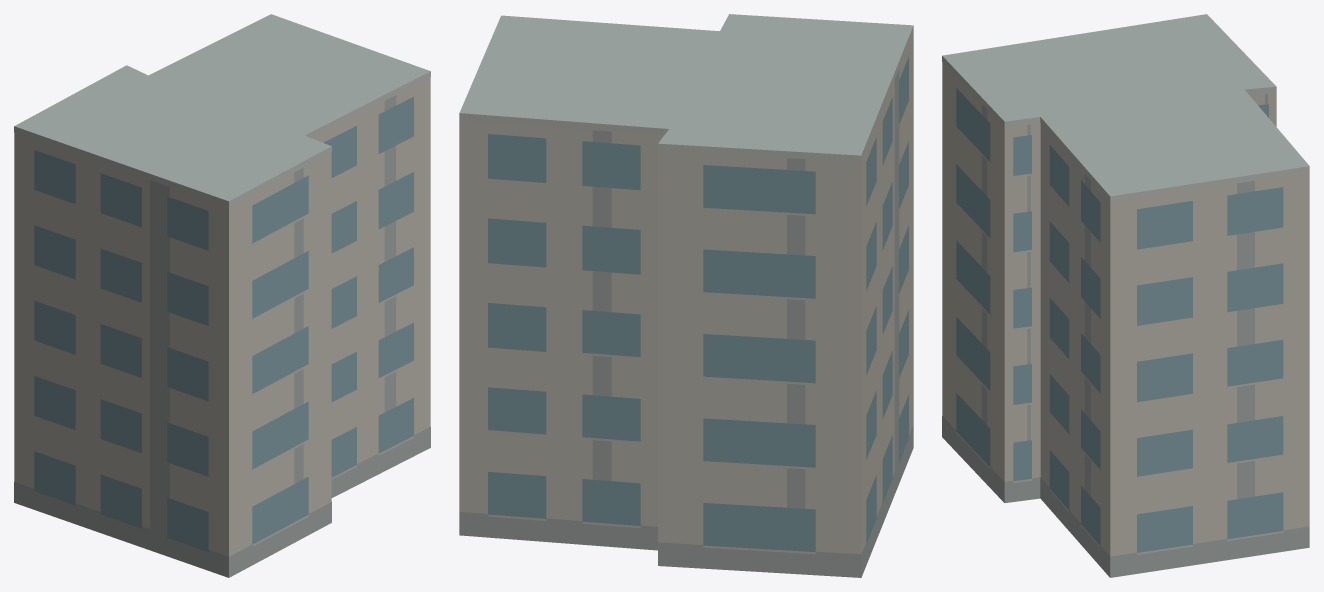
File: survey-upis-32847438.glb
The picture shows the model from 3 angles, left to right: view 1: azimuth 30°, elevation 25°; view 2: azimuth 150°, elevation 25°; view 3: azimuth 270°, elevation 25°; orthographic projection. The views are drawn at different scales.
Parts seen in each view (by area): view 1: survey-upis-32847438.tmp; view 2: survey-upis-32847438.tmp; view 3: survey-upis-32847438.tmp.
Part boxes in pixels (<box>): survey-upis-32847438.tmp: <box>14,14,430,577</box>; survey-upis-32847438.tmp: <box>459,14,913,577</box>; survey-upis-32847438.tmp: <box>942,14,1309,577</box>.
Size of the model in its own units: 15.13 by 14.75 by 12.89.
